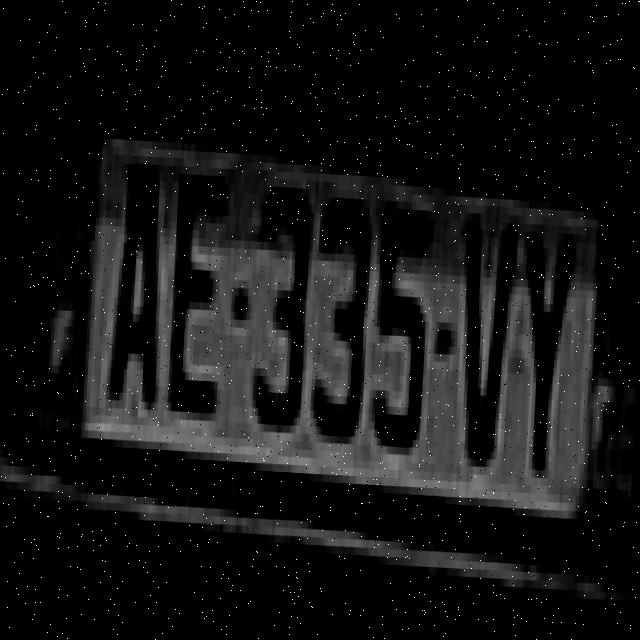EU: (21, 115, 608, 532)
France: (25, 131, 101, 442)
